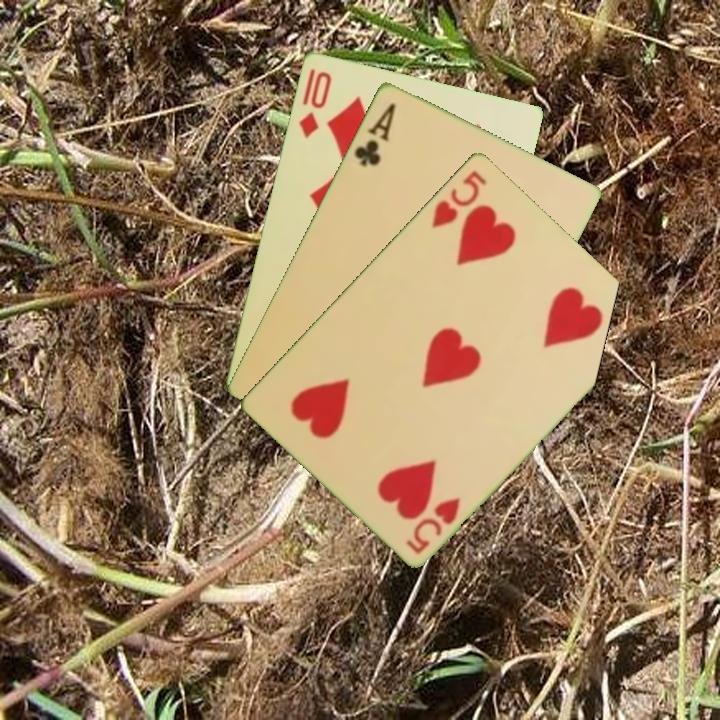10d: (295, 64, 334, 141)
5h: (428, 165, 490, 231), (402, 493, 464, 557)
Ac: (350, 98, 399, 169)
